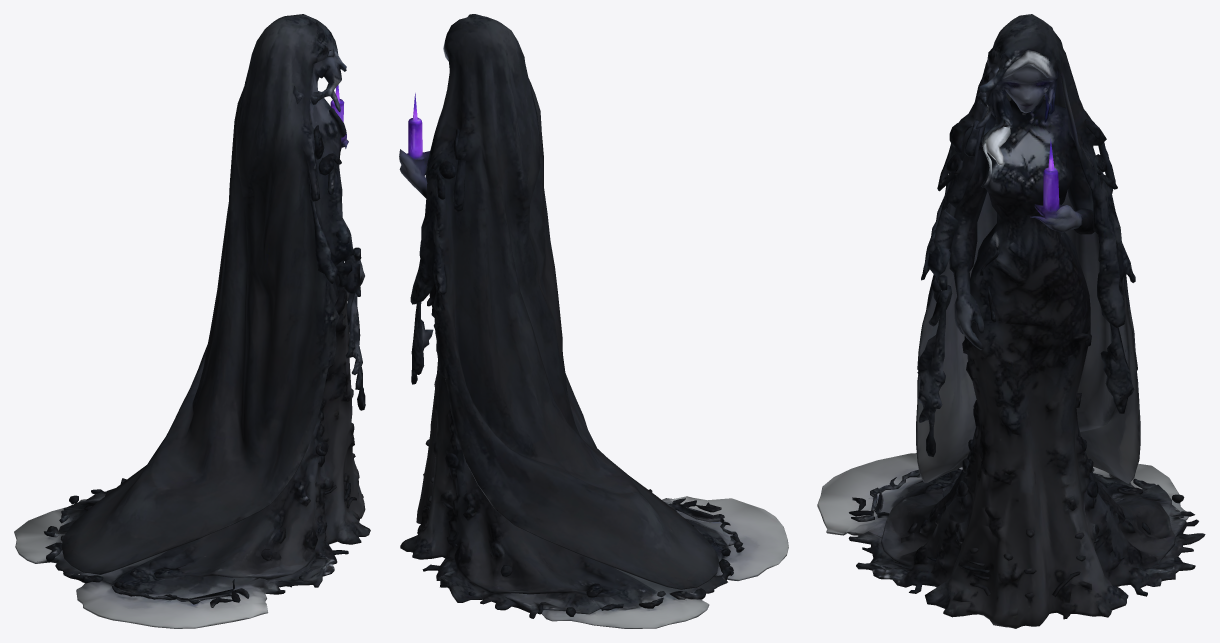
3 renders of one model, left to right at view 1: azimuth 30°, elevation 25°; view 2: azimuth 150°, elevation 25°; view 3: azimuth 270°, elevation 25°, orthographic. The views are drawn at different scales.
Parts seen in each view (by area): view 1: tripo_node_22a2735e-4a72-45b5-9d44-dcc7b80a3595; view 2: tripo_node_22a2735e-4a72-45b5-9d44-dcc7b80a3595; view 3: tripo_node_22a2735e-4a72-45b5-9d44-dcc7b80a3595.
Boxes of the visible parts, x1,y1,x2,y2 form: tripo_node_22a2735e-4a72-45b5-9d44-dcc7b80a3595: [14, 14, 370, 628]; tripo_node_22a2735e-4a72-45b5-9d44-dcc7b80a3595: [399, 14, 788, 628]; tripo_node_22a2735e-4a72-45b5-9d44-dcc7b80a3595: [817, 14, 1205, 628].
Size of the model in its own units: 0.6536 by 1 by 0.6086.
Materials: 1 (1 with a texture image).
